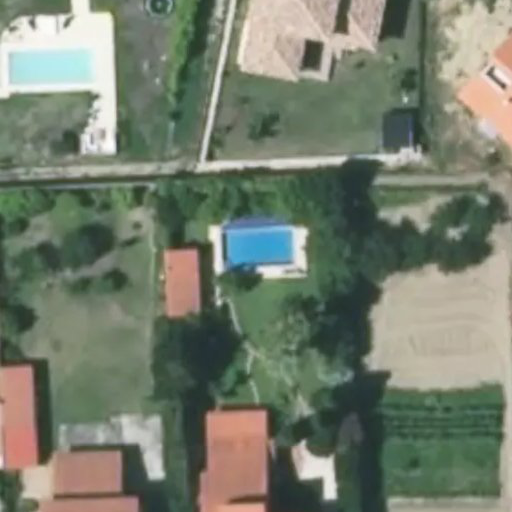pool: (219, 224, 292, 258)
